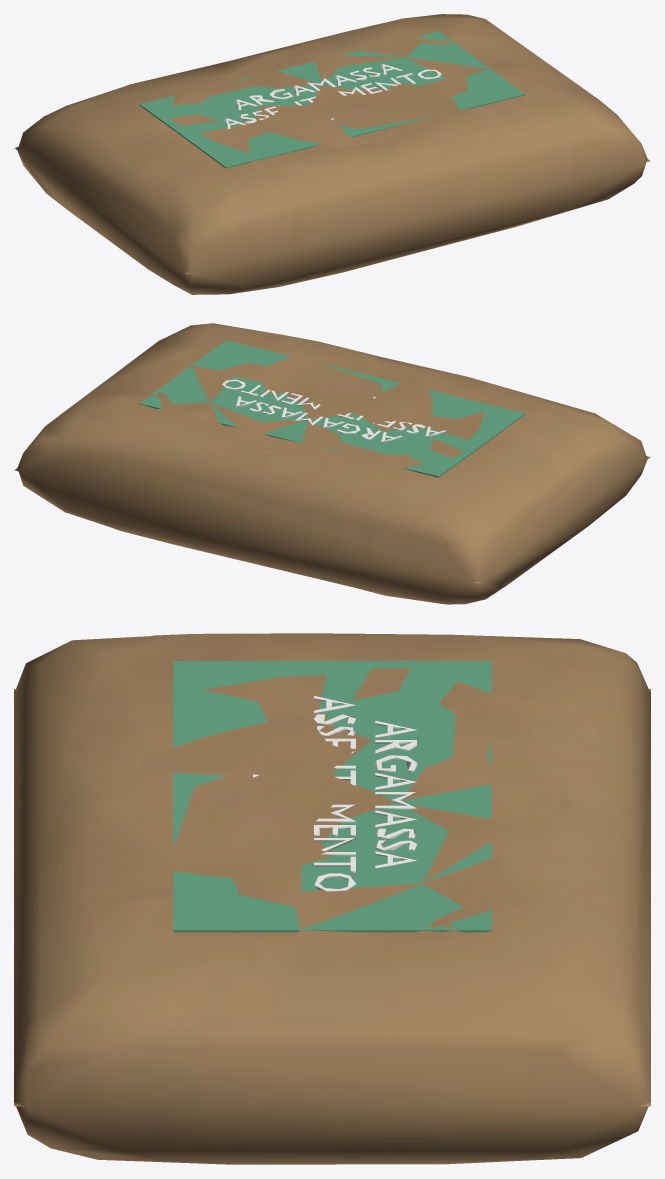
Rendered from ALV-ARG-001_lod1.glb.
The picture shows the model from 3 angles, top to bottom: view 1: azimuth 30°, elevation 25°; view 2: azimuth 150°, elevation 25°; view 3: azimuth 270°, elevation 25°; orthographic projection. The views are drawn at different scales.
Visible parts, largest first — view 1: ALV-ARG-001_saco, ALV-ARG-001_faixa, ALV-ARG-001_texto; view 2: ALV-ARG-001_saco, ALV-ARG-001_faixa, ALV-ARG-001_texto; view 3: ALV-ARG-001_saco, ALV-ARG-001_faixa, ALV-ARG-001_texto.
Boxes of the visible parts, x1,y1,x2,y2 form: ALV-ARG-001_saco: (14,14,650,294); ALV-ARG-001_faixa: (139,31,525,168); ALV-ARG-001_texto: (225,64,441,129); ALV-ARG-001_saco: (14,323,650,604); ALV-ARG-001_faixa: (139,340,525,477); ALV-ARG-001_texto: (222,379,446,443); ALV-ARG-001_saco: (14,633,650,1164); ALV-ARG-001_faixa: (173,661,491,932); ALV-ARG-001_texto: (253,696,417,891).
Bounding box in the file's own units: 0.4836 × 0.1152 × 0.312.
3 materials, 1 textured.
